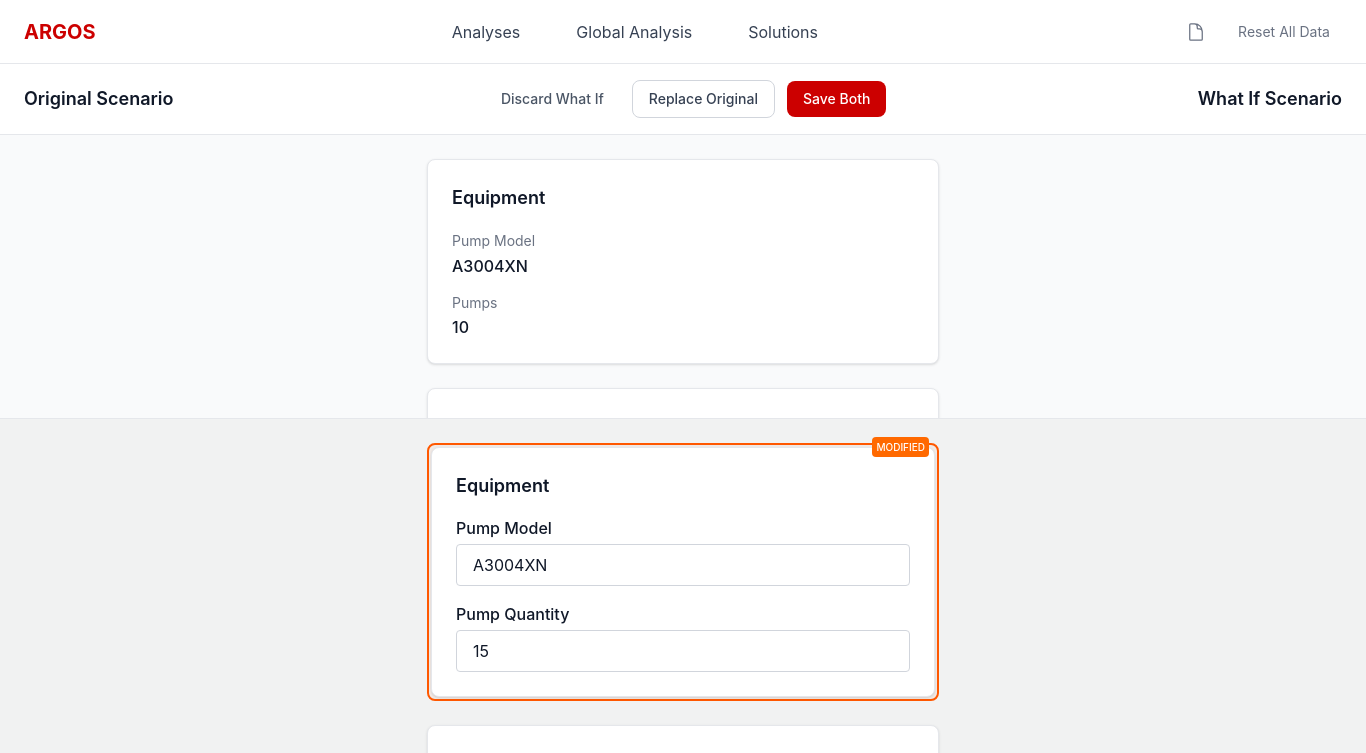
Test: ComparisonView › canceling Replace keeps comparison view open
This screenshot has width=1366, height=753.
// Open modal
What coordinates should you click on to do the following:
click the button "Replace Original"
I would click on:
 (703, 99)
Its box is [632,80,775,118].
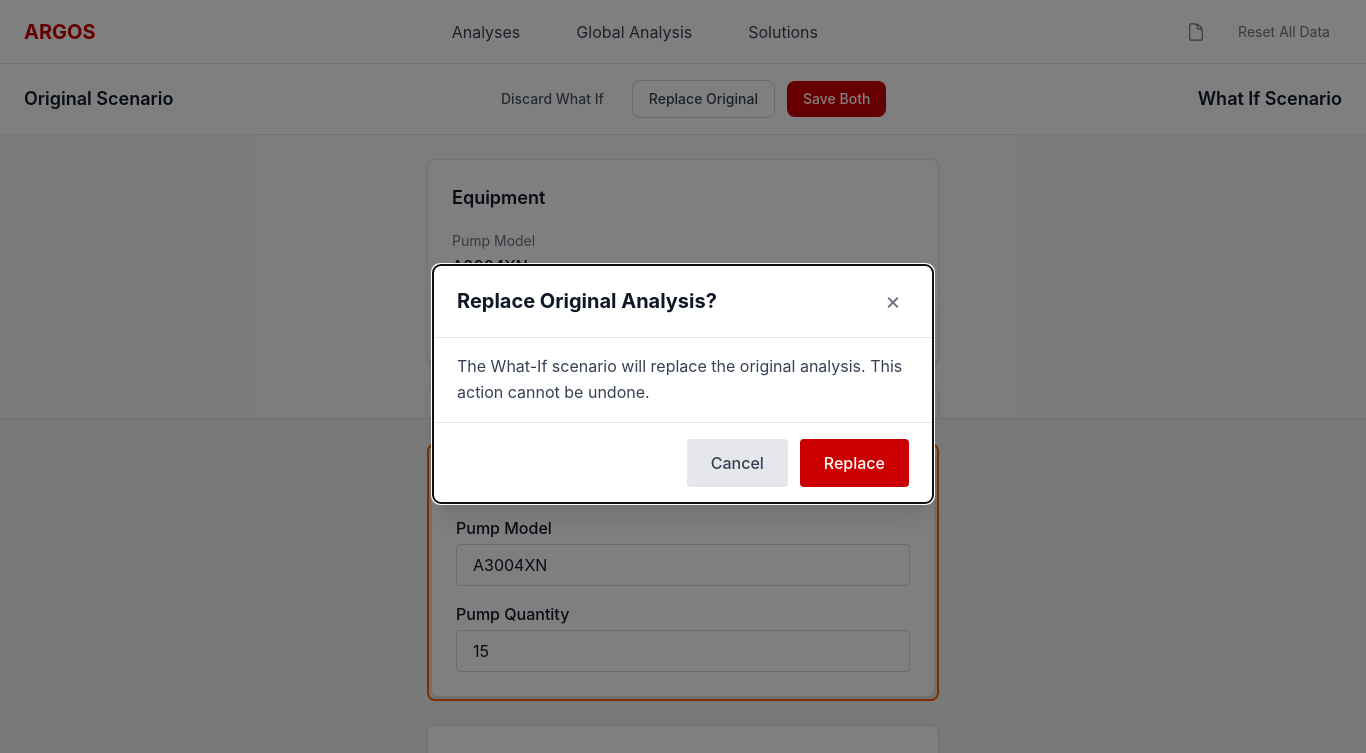
// Click Cancel
What coordinates should you click on to do the following:
click the button "Cancel"
I would click on:
 (737, 463)
Its box is [687,439,788,487].
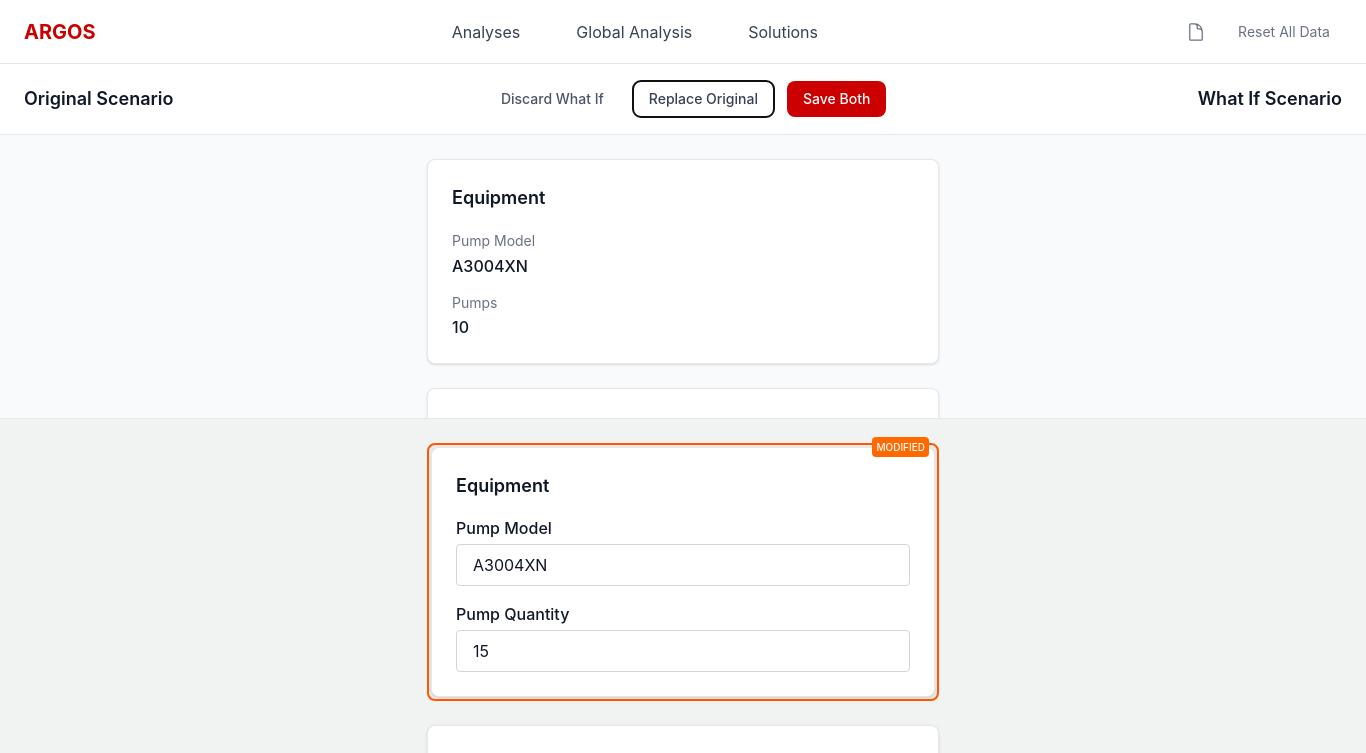
expect the heading "Replace Original Analysis?" is gone: met
